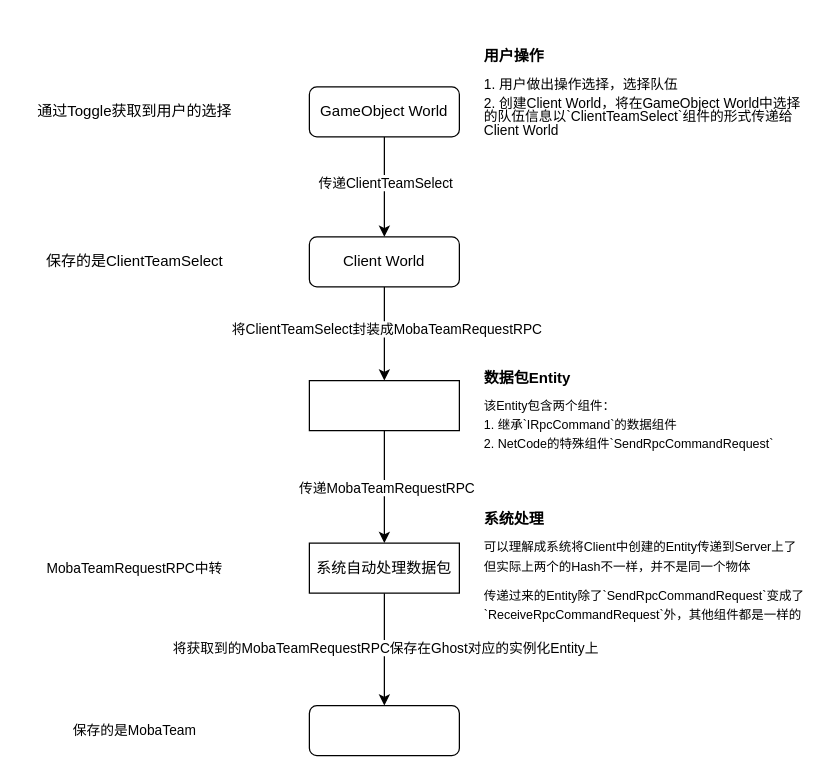
The diagram is 830 pixels wide and 778 high, and some of its shapes have lost their labels. The shapes that lost their labels are listed below. From the top down, each one's centre as x and y in pixels, then its label:
the point at 383,405: 创建数据包
the point at 383,730: Server World处理数据
